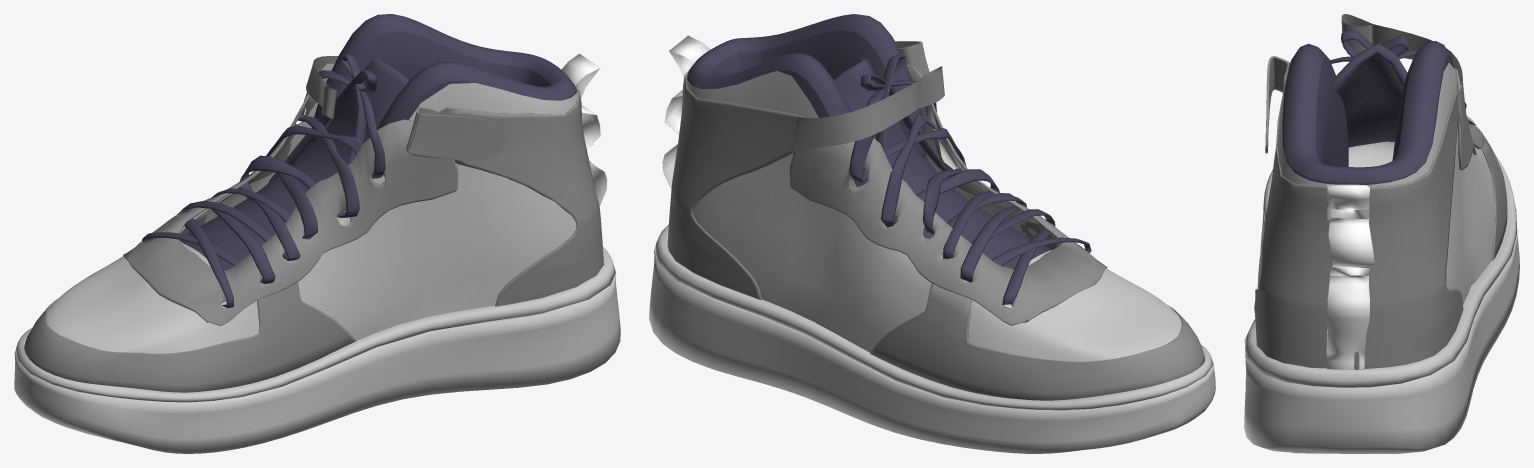
The model's file is sneaker.glb.
3 views of the same model, side by side, from view 1: azimuth 30°, elevation 25°; view 2: azimuth 150°, elevation 25°; view 3: azimuth 270°, elevation 25° (orthographic). The views are drawn at different scales.
Parts seen in each view (by area): view 1: bas.002_0, corps.008_1, Cube.004_18, corps.010_2, arriere.006_6, Plane.004_16, corps.011_3, int.004_4, corps.012_9, DB.002_10, arriere.008_8; view 2: corps.008_1, bas.002_0, Cube.004_18, corps.010_2, arriere.006_6, corps.011_3, Plane.004_16, int.004_4, arriere.008_8, DB.002_10, corps.012_9; view 3: arriere.006_6, bas.002_0, corps.011_3, corps.008_1, DB.002_10, int.004_4, arriere.008_8, corps.010_2, Plane.004_16, Cube.004_18, corps.012_9.
Boxes of the visible parts, left/top/right/bottom form: bas.002_0: left=14, top=247, right=620, bottom=453; corps.008_1: left=46, top=82, right=578, bottom=353; Cube.004_18: left=123, top=63, right=458, bottom=325; corps.010_2: left=23, top=210, right=356, bottom=392; arriere.006_6: left=438, top=88, right=604, bottom=306; Plane.004_16: left=142, top=54, right=385, bottom=307; corps.011_3: left=311, top=14, right=576, bottom=142; int.004_4: left=179, top=56, right=409, bottom=270; corps.012_9: left=406, top=107, right=506, bottom=160; DB.002_10: left=561, top=53, right=607, bottom=206; arriere.008_8: left=306, top=56, right=338, bottom=118; corps.008_1: left=686, top=66, right=1181, bottom=361; bas.002_0: left=649, top=224, right=1215, bottom=453; Cube.004_18: left=789, top=64, right=1107, bottom=325; corps.010_2: left=870, top=219, right=1204, bottom=400; arriere.006_6: left=667, top=73, right=803, bottom=300; corps.011_3: left=687, top=14, right=926, bottom=227; Plane.004_16: left=849, top=55, right=1091, bottom=304; int.004_4: left=834, top=58, right=1050, bottom=269; arriere.008_8: left=792, top=66, right=944, bottom=151; DB.002_10: left=662, top=35, right=710, bottom=189; corps.012_9: left=895, top=41, right=929, bottom=76; arriere.006_6: left=1254, top=88, right=1463, bottom=370; bas.002_0: left=1244, top=141, right=1519, bottom=453; corps.011_3: left=1282, top=41, right=1453, bottom=184; corps.008_1: left=1257, top=62, right=1495, bottom=368; DB.002_10: left=1326, top=184, right=1374, bottom=369; int.004_4: left=1334, top=43, right=1407, bottom=147; arriere.008_8: left=1341, top=14, right=1464, bottom=131; corps.010_2: left=1478, top=128, right=1507, bottom=260; Plane.004_16: left=1330, top=30, right=1475, bottom=125; Cube.004_18: left=1454, top=68, right=1483, bottom=170; corps.012_9: left=1265, top=56, right=1289, bottom=153.
Size of the model in its own units: 0.2861 by 0.1591 by 0.1183.
